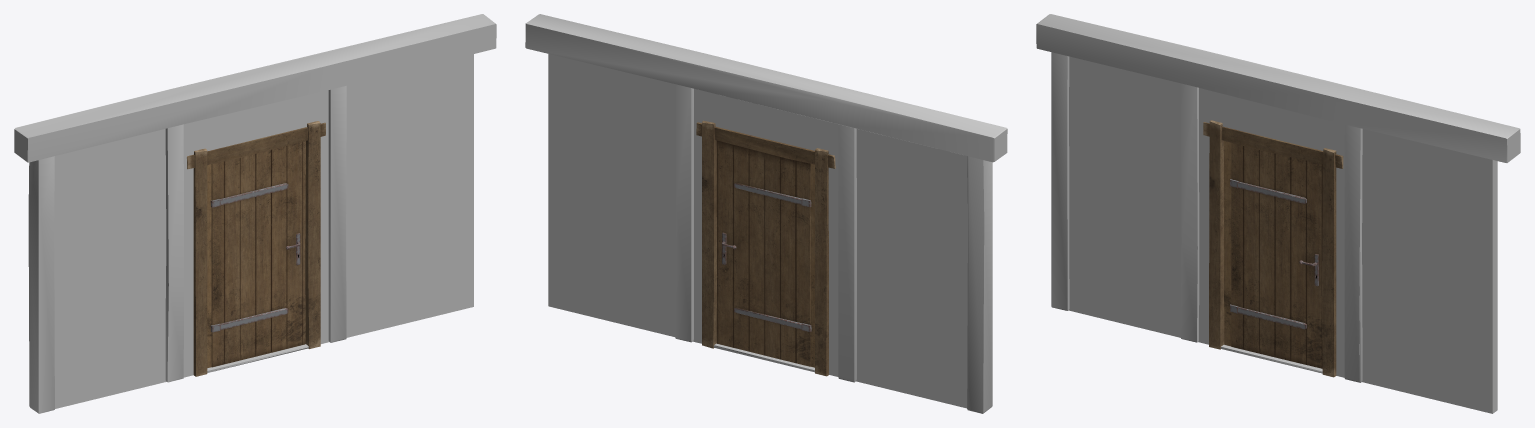
File: SM_WallElement_05_LOD_02.FBX
The picture shows the model from 3 angles, left to right: view 1: azimuth 30°, elevation 25°; view 2: azimuth 150°, elevation 25°; view 3: azimuth 330°, elevation 25°; orthographic projection.
Visible parts, largest first — view 1: SM_WallElement_05_LOD_02, SM_Door_01_LOD_02; view 2: SM_WallElement_05_LOD_02, SM_Door_01_LOD_02; view 3: SM_WallElement_05_LOD_02, SM_Door_01_LOD_02.
Boxes of the visible parts, <box> form: SM_WallElement_05_LOD_02: <box>14,14,496,413</box>; SM_Door_01_LOD_02: <box>210,141,305,367</box>; SM_WallElement_05_LOD_02: <box>525,14,1007,413</box>; SM_Door_01_LOD_02: <box>716,140,811,366</box>; SM_WallElement_05_LOD_02: <box>1036,14,1520,413</box>; SM_Door_01_LOD_02: <box>1230,142,1322,368</box>.
Bounding box in the file's own units: 5.46 × 3.16 × 0.302.
